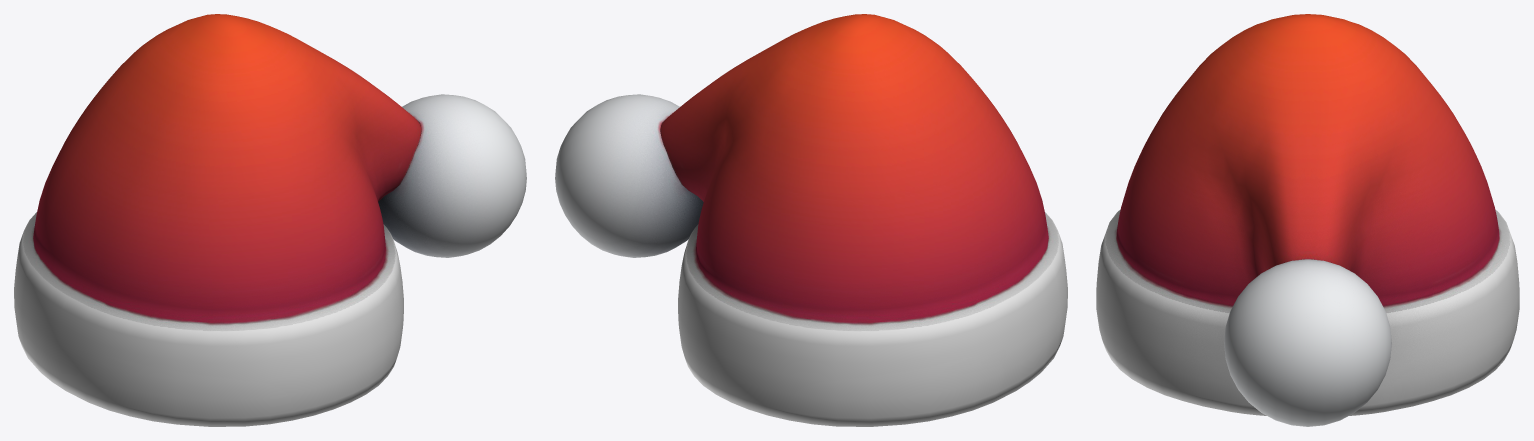
The model's file is qizi_12.FBX.
3 renders of one model, left to right at view 1: azimuth 30°, elevation 25°; view 2: azimuth 150°, elevation 25°; view 3: azimuth 270°, elevation 25°, orthographic. The views are drawn at different scales.
Visible parts, largest first — view 1: qizi_12; view 2: qizi_12; view 3: qizi_12.
Boxes of the visible parts, x1=… form: qizi_12: x1=14, y1=14, x2=526, y2=426; qizi_12: x1=555, y1=14, x2=1067, y2=426; qizi_12: x1=1096, y1=14, x2=1519, y2=426.
Size of the model in its own units: 111 by 72.38 by 84.82.
Materials: 1 (1 with a texture image).
